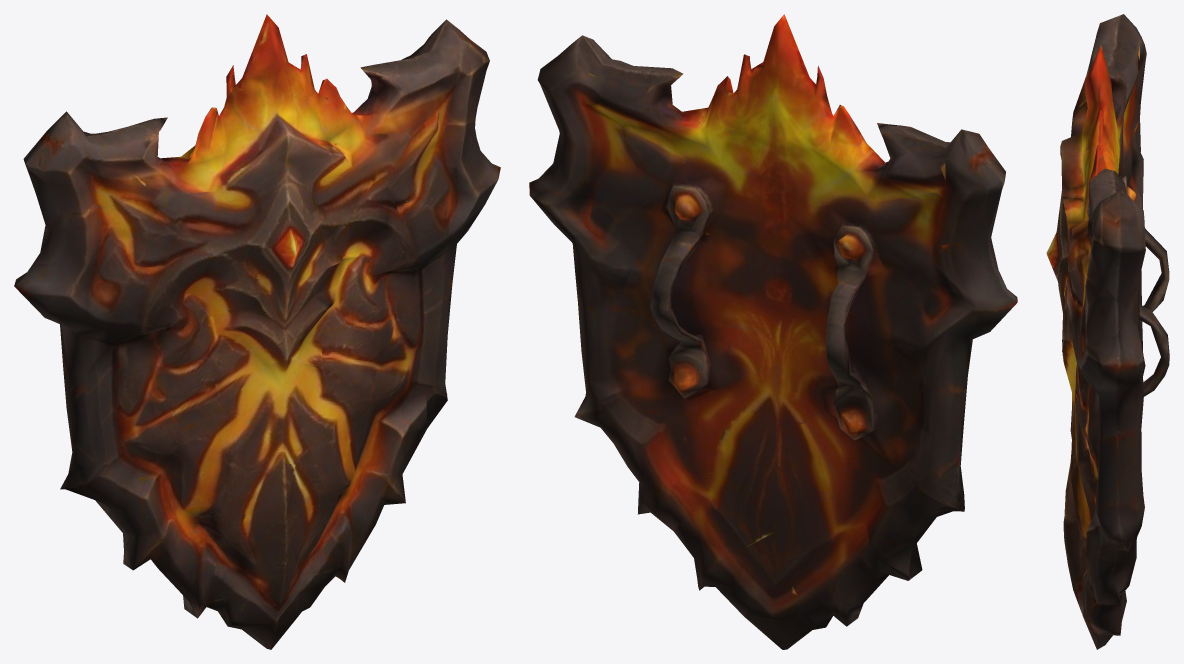
The model's file is 463_s_fire.glb.
The picture shows the model from 3 angles, left to right: view 1: azimuth 30°, elevation 25°; view 2: azimuth 150°, elevation 25°; view 3: azimuth 270°, elevation 25°; orthographic projection. The views are drawn at different scales.
Parts seen in each view (by area): view 1: Model; view 2: Model; view 3: Model.
Part boxes in pixels (x1,y1,x2,y2): Model: [14, 14, 500, 649]; Model: [529, 14, 1017, 649]; Model: [1046, 14, 1169, 649].
Bounding box in the file's own units: 0.8018 × 1 × 0.1846.
1 material, 1 textured.
